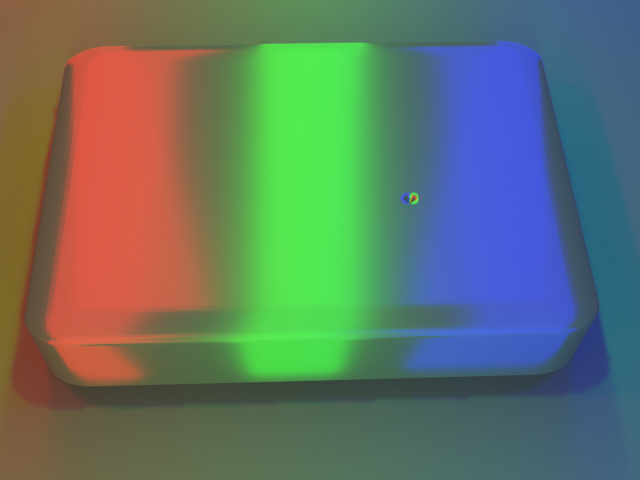dent: (400, 178, 437, 222)
